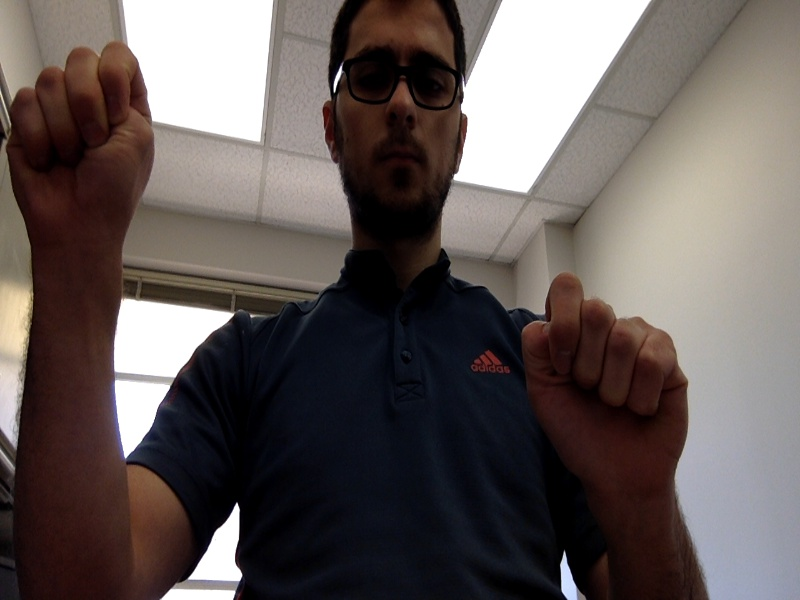0-hand: (520, 274, 689, 498), (8, 44, 155, 249)
